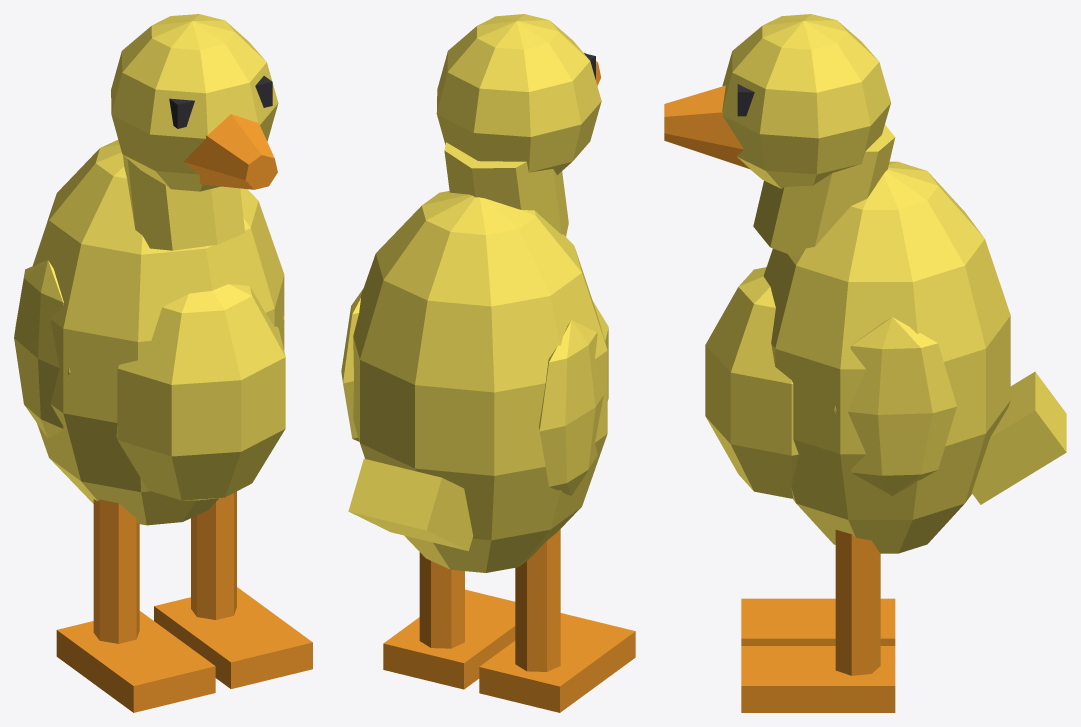
Rendered from duck.glb.
The picture shows the model from 3 angles, left to right: view 1: azimuth 30°, elevation 25°; view 2: azimuth 150°, elevation 25°; view 3: azimuth 270°, elevation 25°; orthographic projection.
Parts seen in each view (by area): view 1: duck; view 2: duck; view 3: duck.
Part boxes in pixels (x1,y1,x2,y2): duck: [14, 14, 312, 712]; duck: [341, 14, 635, 712]; duck: [664, 14, 1066, 712].
Size of the model in its own units: 0.1829 by 0.4829 by 0.2716.
